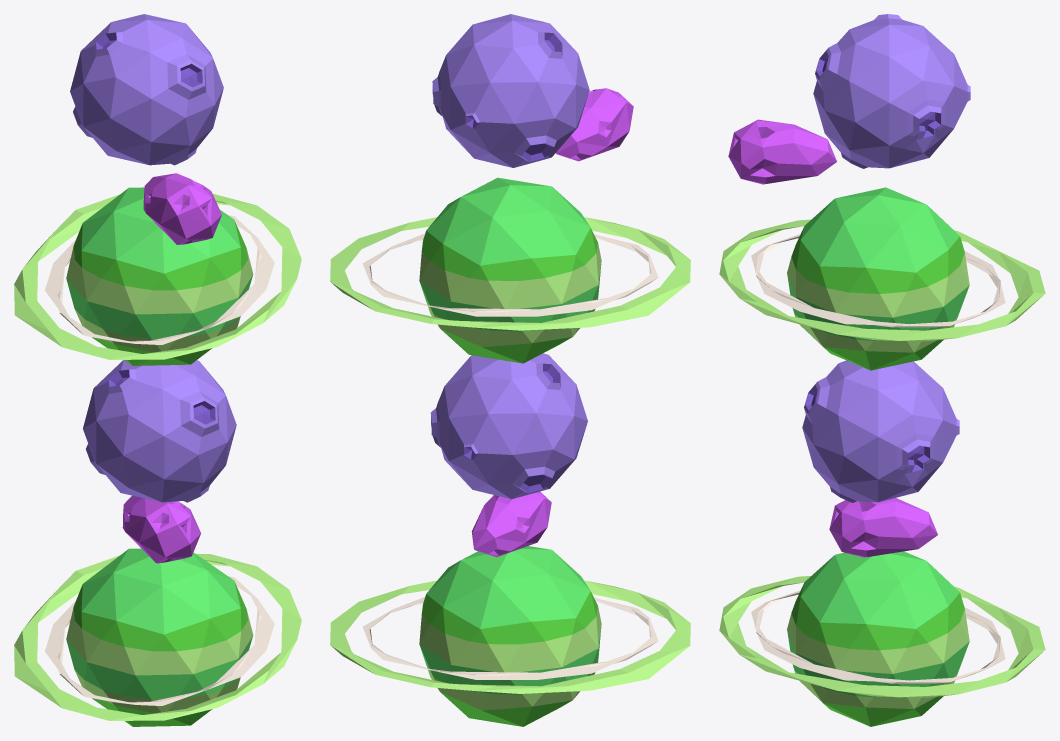
The model's file is 037_Space.fbx.
The picture shows the model from 3 angles, left to right: view 1: azimuth 30°, elevation 25°; view 2: azimuth 150°, elevation 25°; view 3: azimuth 270°, elevation 25°; orthographic projection.
Visible parts, largest first — view 1: Space2; view 2: Space2; view 3: Space2.
Boxes of the visible parts, bbox=[...] form: Space2: bbox=[14, 14, 301, 726]; Space2: bbox=[330, 14, 690, 726]; Space2: bbox=[719, 14, 1045, 726].
Bounding box in the file's own units: 83.6 × 199 × 85.1.
